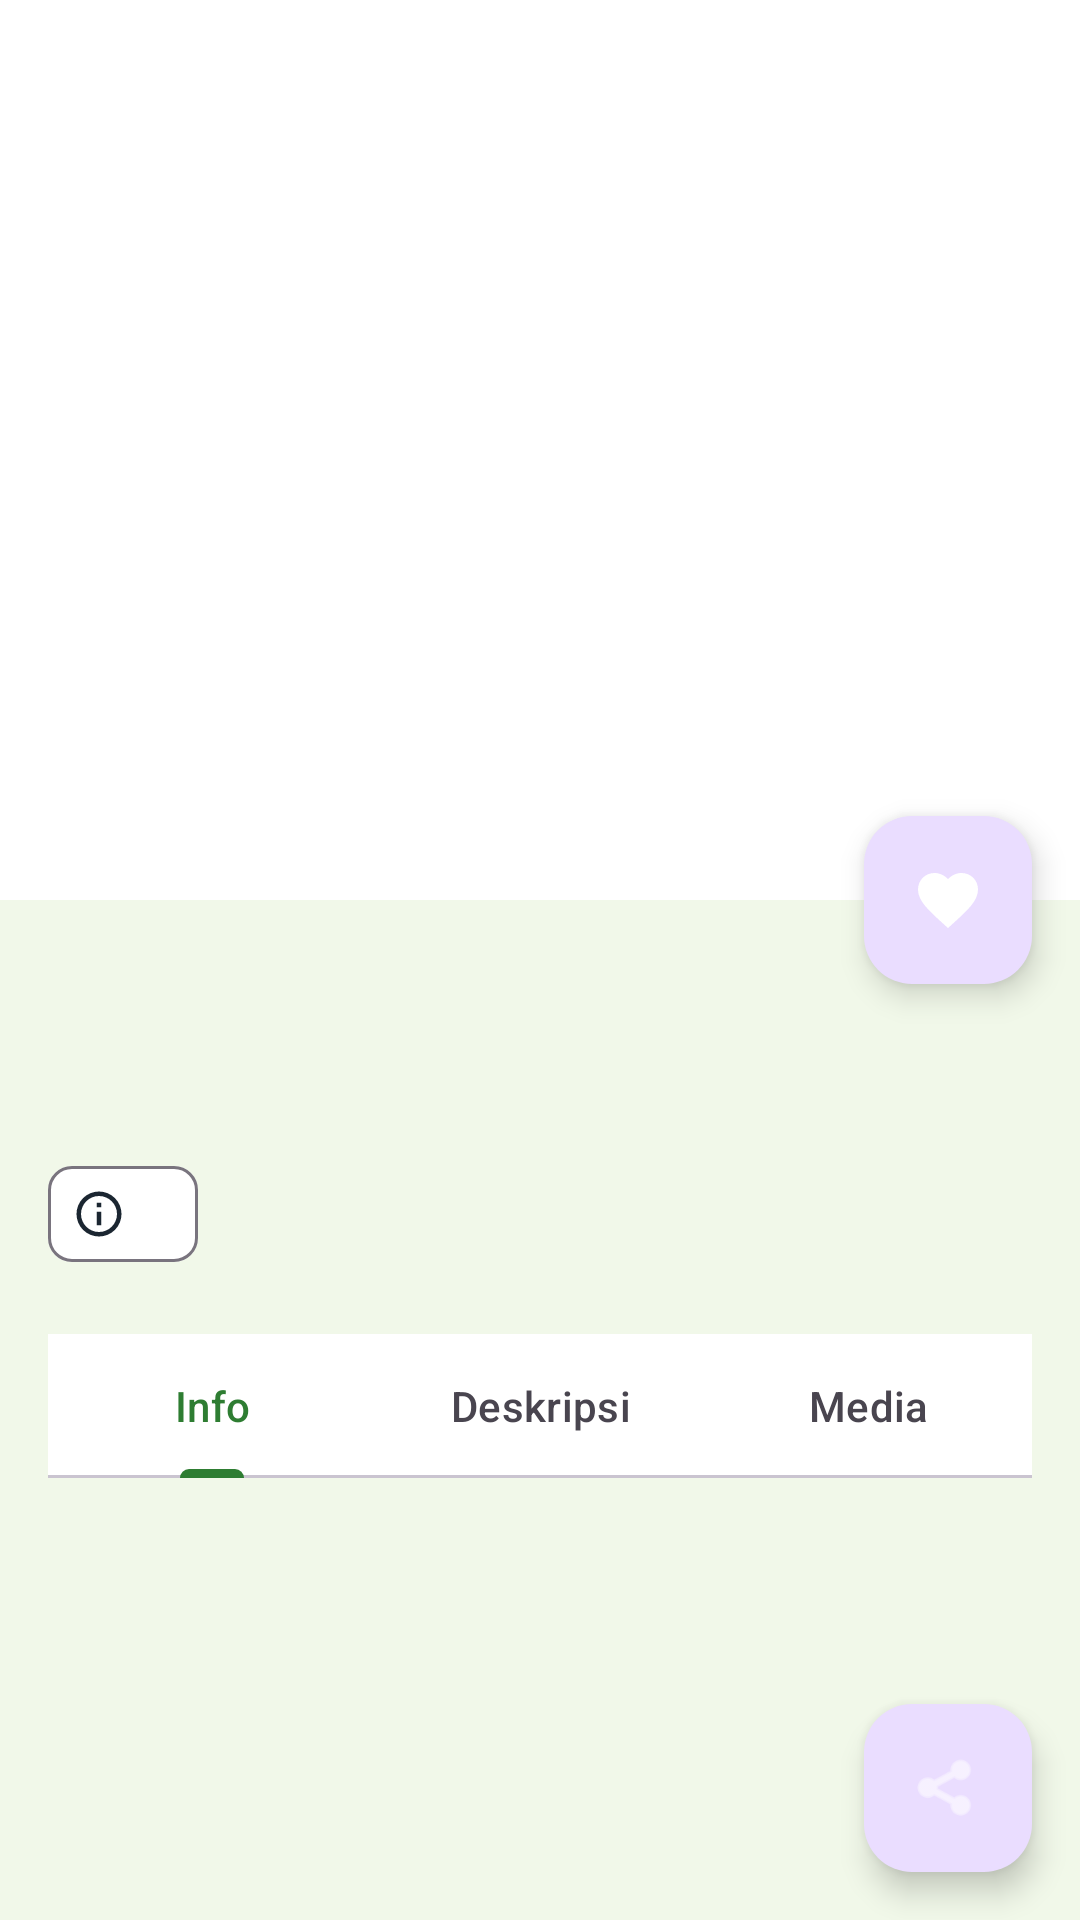

Point at icon controls on the screen. Image size 1080*1920, points as (x=x, y=y).
Favorite: (x=948, y=900)
Share: (x=948, y=1788)
